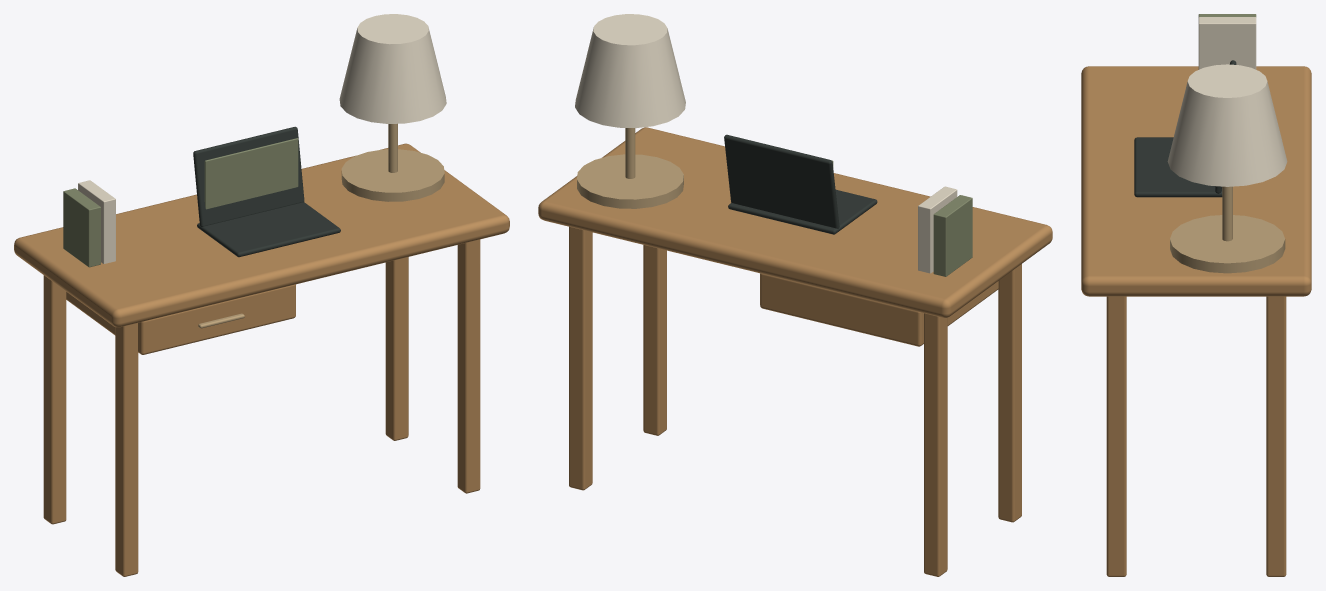
3 views of the same model, side by side, from view 1: azimuth 30°, elevation 25°; view 2: azimuth 150°, elevation 25°; view 3: azimuth 270°, elevation 25° (orthographic). The views are drawn at different scales.
Visible parts, largest first — view 1: Desk top, Tapered leg (×4), Linen lampshade, Pencil drawer, Laptop lit screen, Lamp base, Laptop keyboard, Cloth-bound book (×2), Laptop display; view 2: Desk top, Tapered leg (×4), Linen lampshade, Laptop display, Pencil drawer, Lamp base, Cloth-bound book (×2), Laptop keyboard; view 3: Desk top, Tapered leg (×2), Linen lampshade, Lamp base, Laptop keyboard, Cloth-bound book, Lamp stem.
Boxes of the visible parts, left/top/right/bottom form: Desk top: left=14, top=143, right=509, bottom=327; Tapered leg (×4): left=43, top=239, right=480, bottom=576; Linen lampshade: left=339, top=14, right=446, bottom=123; Pencil drawer: left=66, top=284, right=295, bottom=354; Laptop lit screen: left=204, top=138, right=298, bottom=209; Lamp base: left=341, top=149, right=444, bottom=201; Laptop keyboard: left=197, top=202, right=340, bottom=257; Cloth-bound book (×2): left=63, top=180, right=115, bottom=267; Laptop display: left=193, top=126, right=304, bottom=226; Desk top: left=538, top=127, right=1052, bottom=317; Tapered leg (×4): left=569, top=226, right=1021, bottom=576; Linen lampshade: left=575, top=14, right=685, bottom=128; Laptop display: left=724, top=134, right=839, bottom=228; Pencil drawer: left=760, top=273, right=998, bottom=346; Lamp base: left=577, top=154, right=683, bottom=208; Cloth-bound book (×2): left=918, top=186, right=972, bottom=276; Laptop keyboard: left=728, top=189, right=877, bottom=234; Desk top: left=1081, top=66, right=1311, bottom=296; Tapered leg (×2): left=1106, top=296, right=1286, bottom=576; Linen lampshade: left=1167, top=64, right=1287, bottom=186; Lamp base: left=1170, top=215, right=1285, bottom=273; Laptop keyboard: left=1134, top=137, right=1222, bottom=197; Cloth-bound book: left=1198, top=17, right=1256, bottom=69; Lamp stem: left=1222, top=186, right=1232, bottom=241.
Size of the model in its own units: 1.15 by 1.19 by 0.52.
